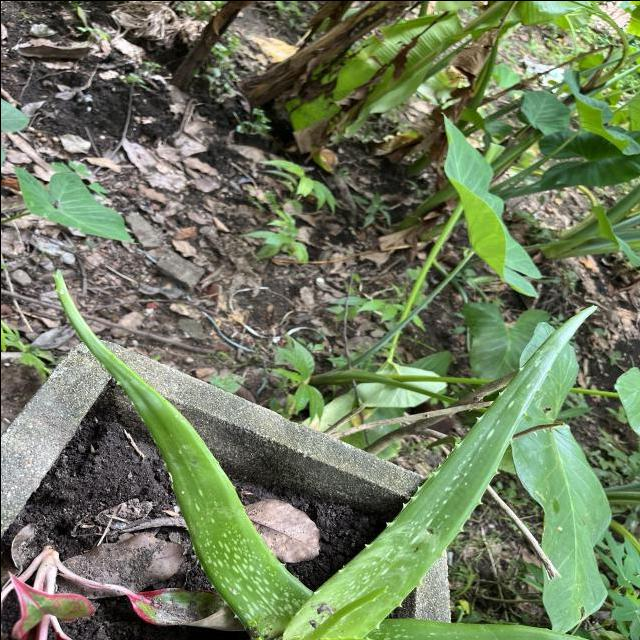Aloe vera: (284, 297, 604, 638), (44, 264, 299, 640)
